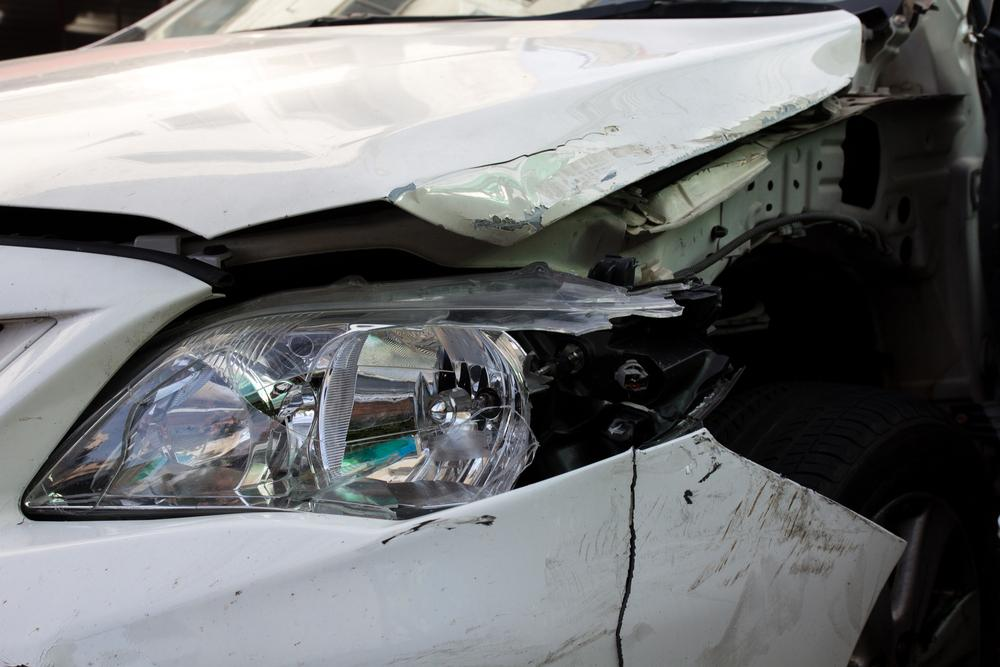crack: (612, 449, 640, 667)
dent: (390, 167, 582, 245)
lamp broken: (25, 270, 615, 520)
scratch: (667, 432, 876, 667), (373, 510, 505, 545)
